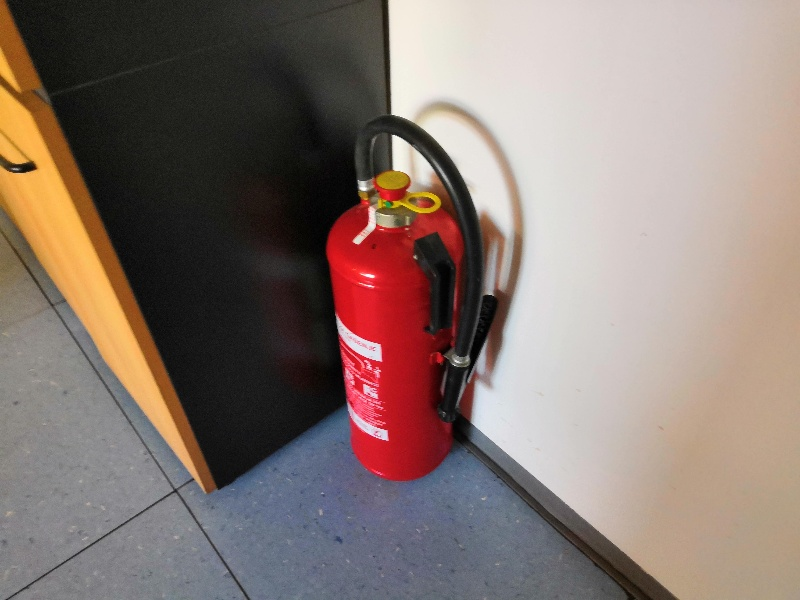vataparat: (325, 115, 498, 476)
